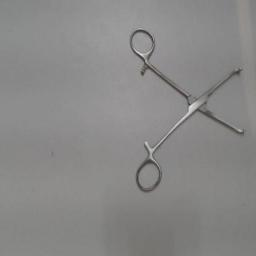Allis Tissue Forceps: (126, 24, 248, 196)
